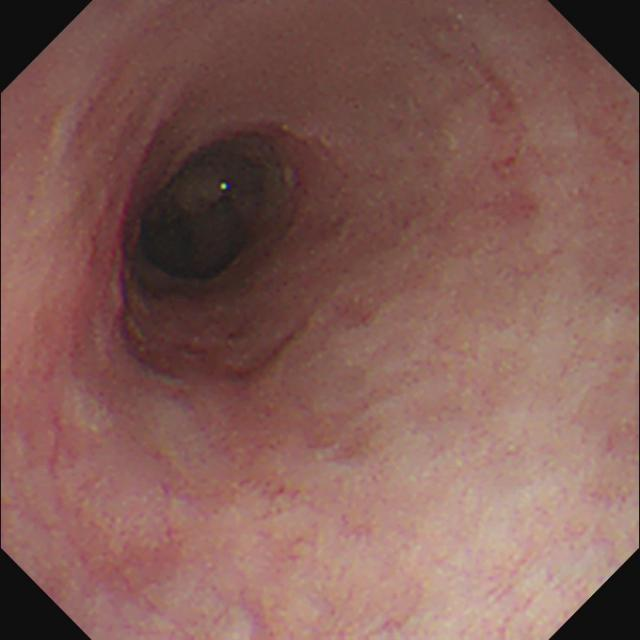A: (115, 296, 322, 400)
E: (151, 179, 251, 280)
